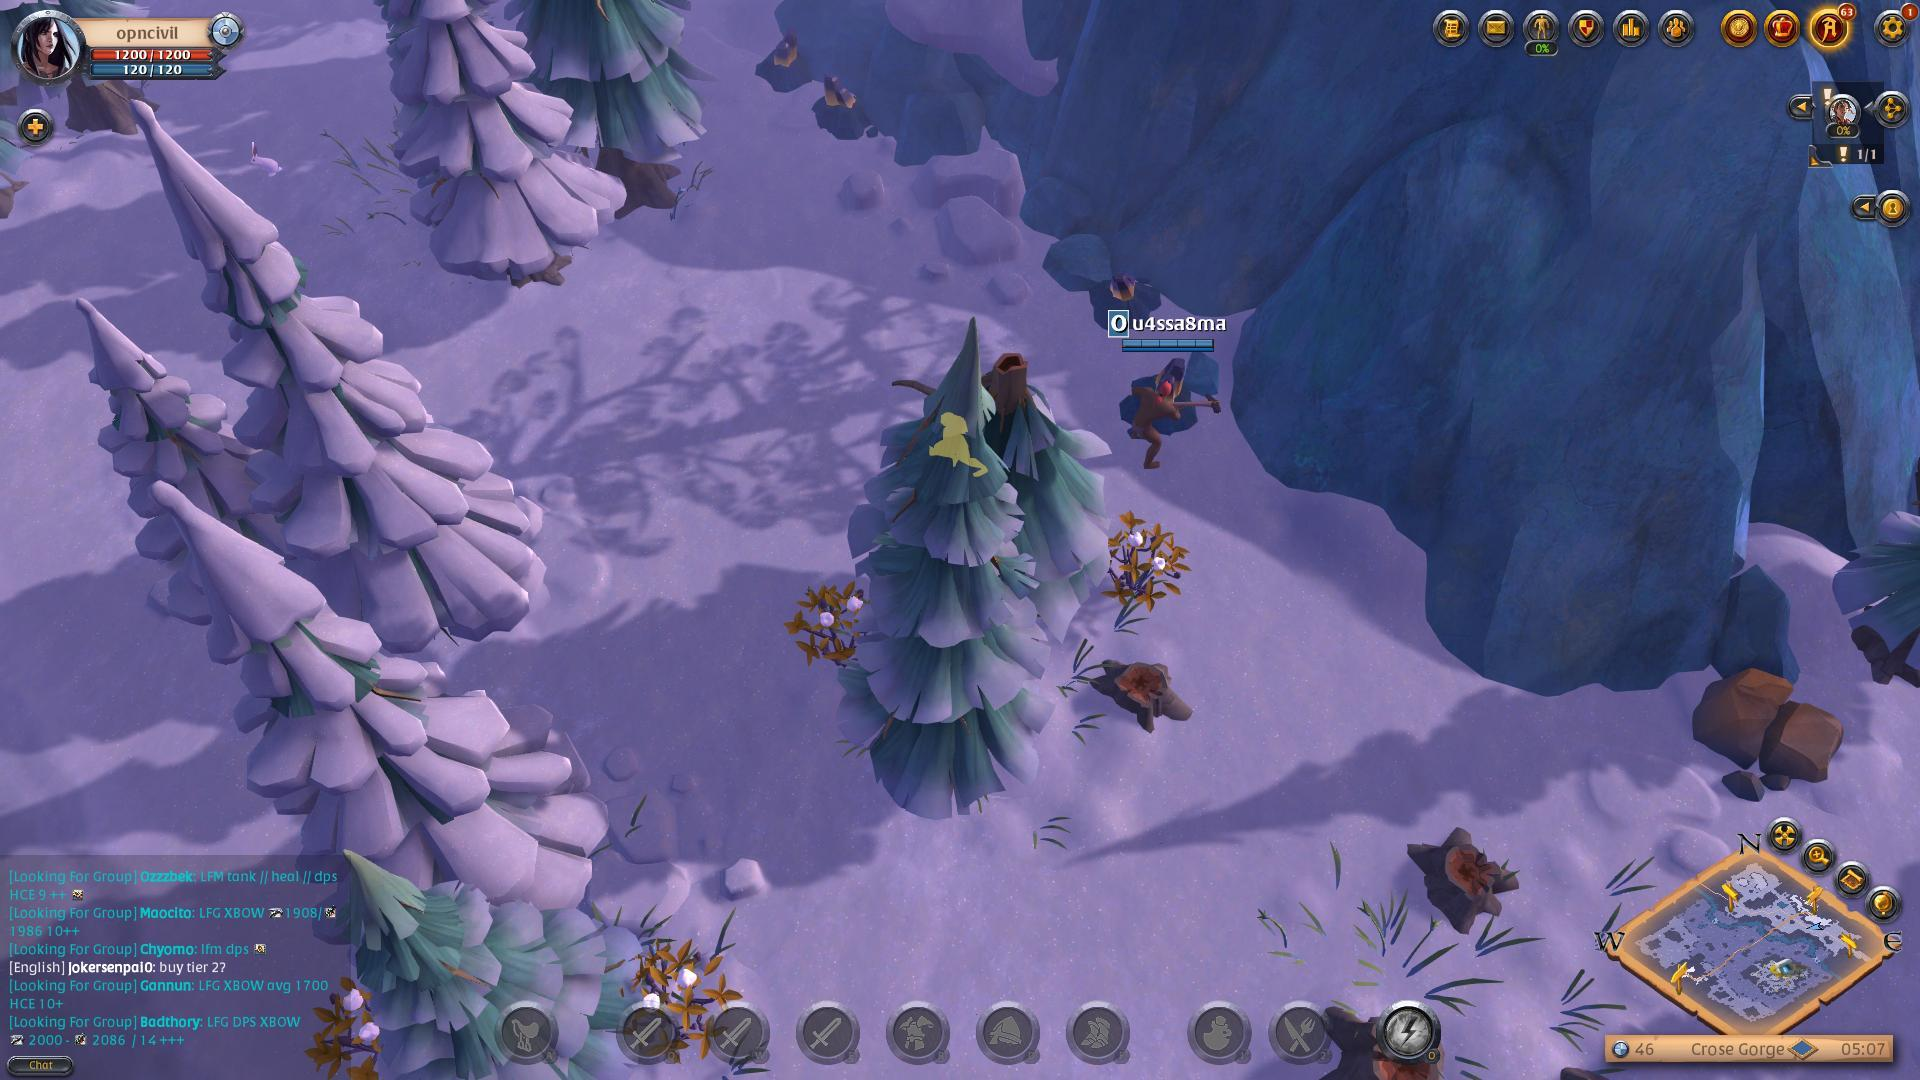copper_ore: (807, 67, 870, 141), (752, 29, 819, 98)
cotton: (1110, 508, 1197, 609), (785, 593, 876, 669)
limestone: (1685, 675, 1855, 795)
